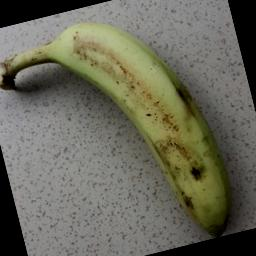Banana Ripe: (35, 0, 256, 256)
